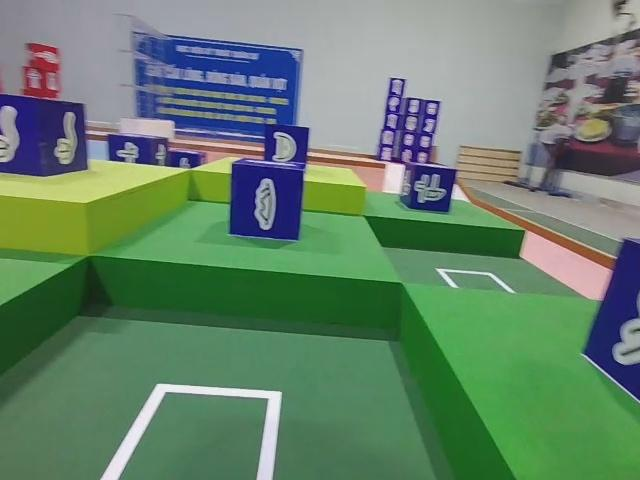R2 Real Blue: (0, 95, 86, 182), (230, 159, 310, 246), (400, 160, 457, 213), (108, 134, 170, 169), (262, 125, 312, 168)
